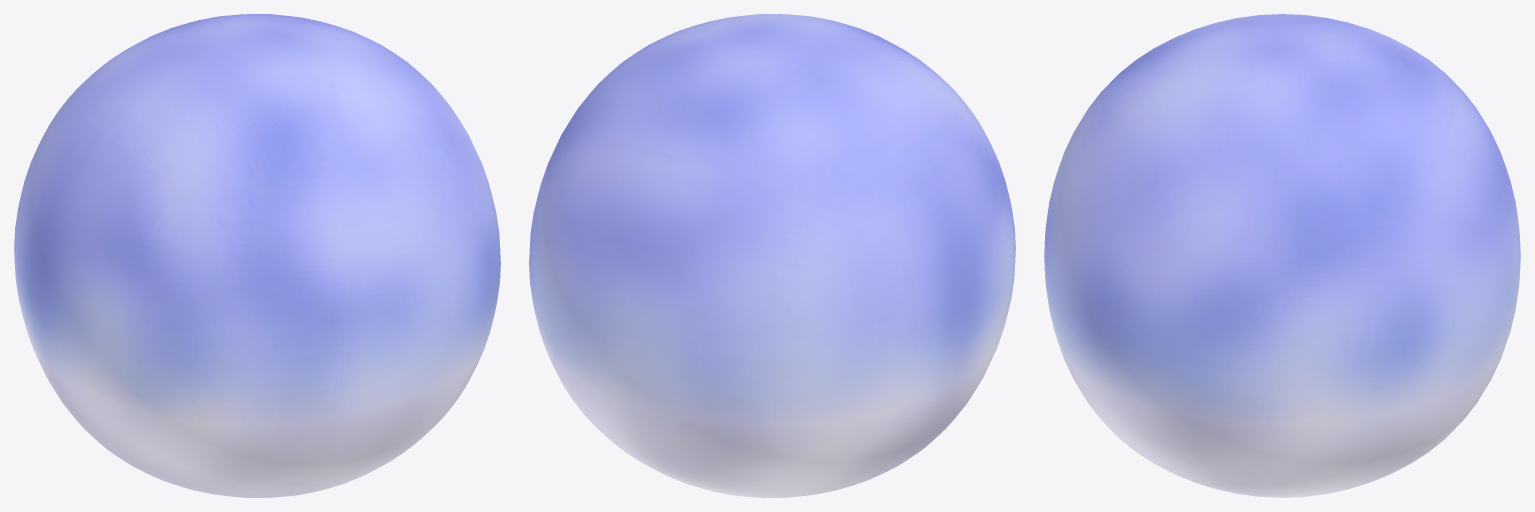
The model's file is train_global.glb.
The picture shows the model from 3 angles, left to right: view 1: azimuth 30°, elevation 25°; view 2: azimuth 150°, elevation 25°; view 3: azimuth 270°, elevation 25°; orthographic projection.
Parts seen in each view (by area): view 1: cube-bg-applied.001; view 2: cube-bg-applied.001; view 3: cube-bg-applied.001.
Part boxes in pixels (x1,y1,x2,y2): cube-bg-applied.001: [14, 14, 500, 497]; cube-bg-applied.001: [529, 14, 1015, 497]; cube-bg-applied.001: [1044, 14, 1520, 497].
Size of the model in its own units: 146 by 146 by 146.
12 materials, 6 textured.
